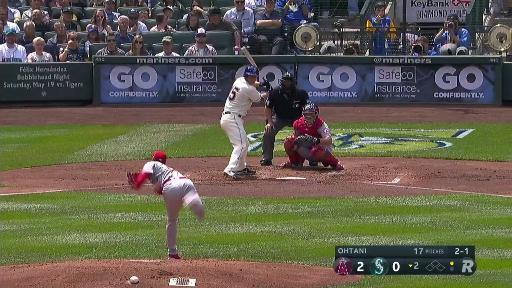pitcher: (130, 147, 209, 261)
